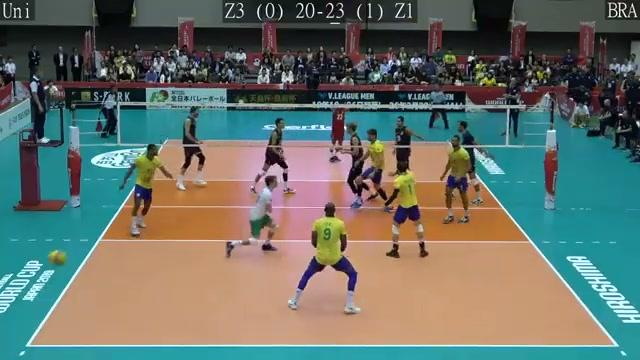ball: (44, 247, 72, 269)
